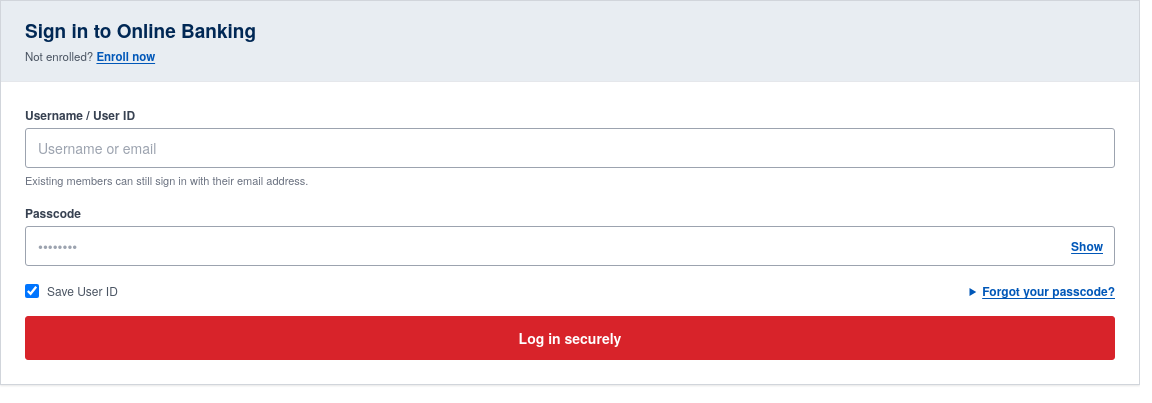
it: password fields on each form › login: Username / User ID is the primary field and the passcode is hidden with a toggle
The width and height of the screenshot is (1152, 403).
Expected: the text "Existing members can still sign in with their email address." is shown, [25, 172, 308, 188]
Type "pw-12345678" into the password field labelled "Passcode".
click(570, 246); type("pw-12345678")  # box [25, 226, 1115, 266]
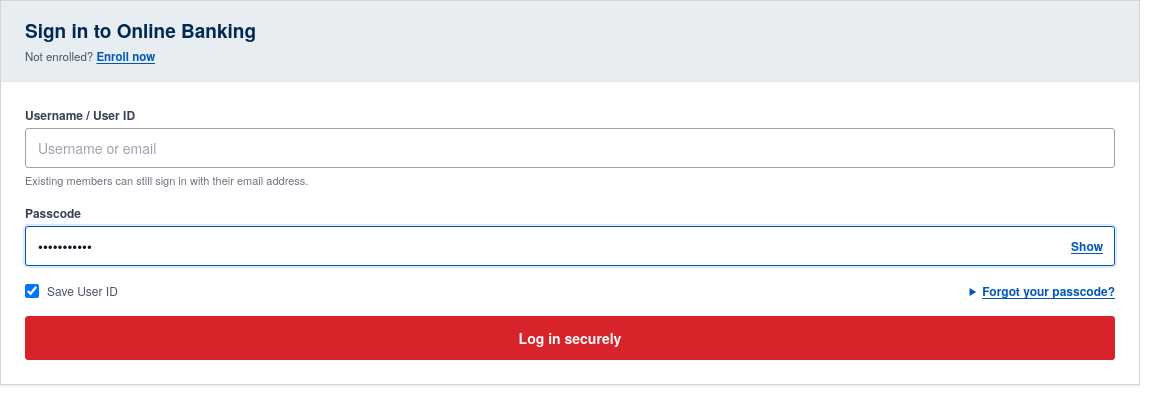
Click the button named "Show password".
click(1087, 246)  # box [1063, 230, 1111, 262]
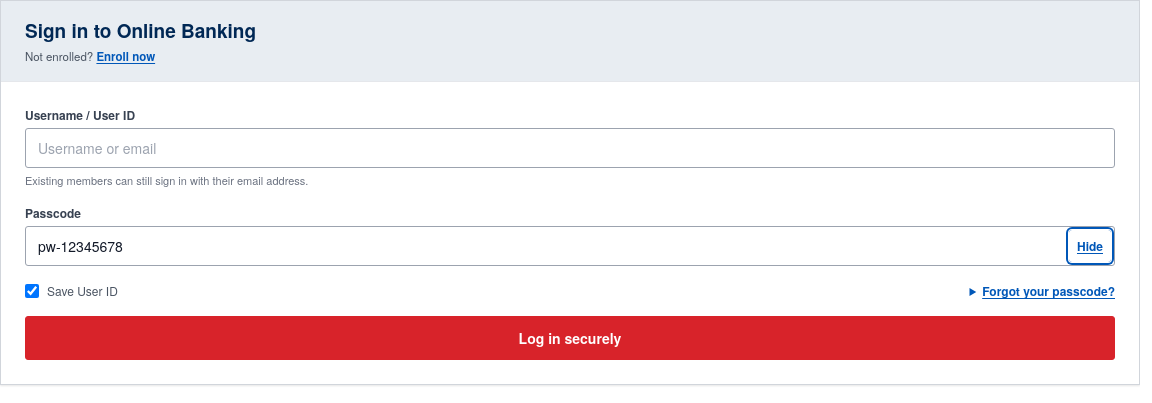
Expected: the field labelled "Passcode" shows its text, [25, 226, 1115, 266]
